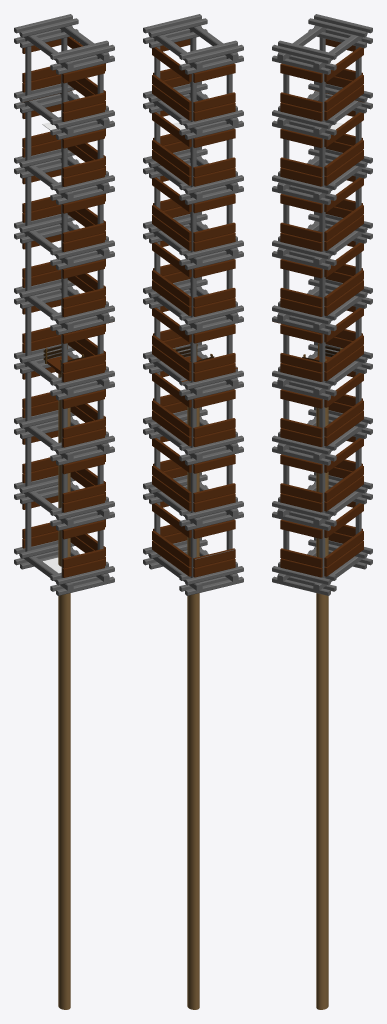
File: CampLift.fbx
3 views of the same model, side by side, from view 1: azimuth 30°, elevation 25°; view 2: azimuth 210°, elevation 25°; view 3: azimuth 330°, elevation 25° (orthographic).
Visible parts, largest first — view 1: Encasemanet, StagePillar; view 2: Encasemanet, StagePillar; view 3: Encasemanet, StagePillar.
Part boxes in pixels (box(x1,y1,x2,y2)): Encasemanet: box(14, 14, 114, 595); StagePillar: box(58, 373, 70, 1009); Encasemanet: box(143, 14, 243, 595); StagePillar: box(187, 407, 199, 1009); Encasemanet: box(272, 14, 372, 595); StagePillar: box(316, 407, 328, 1009).
Size of the model in its own units: 1344 by 22133 by 2000.
